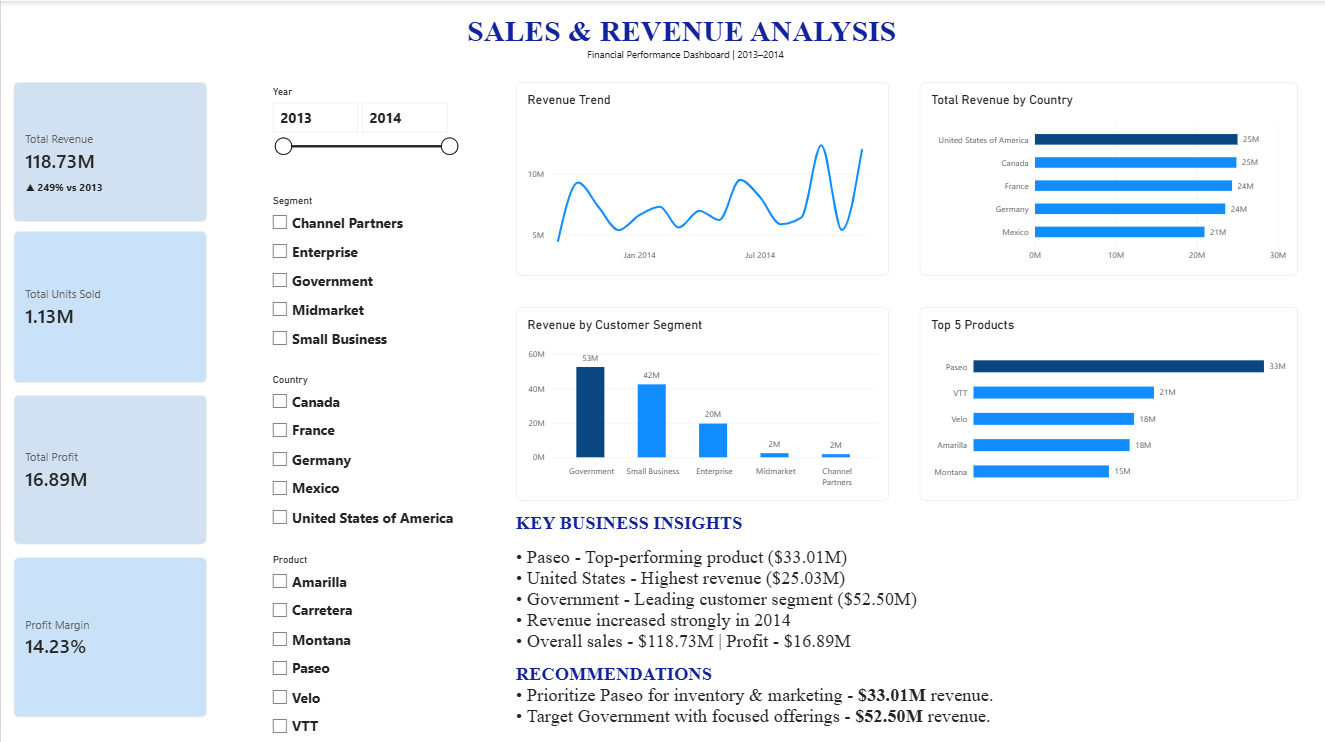

This screenshot's page, from the dashboard's own definition file:
{"tool":"powerbi","page":{"name":"Page 1","canvas":[1920,1080],"ordinal":0},"visuals":[{"type":"cardVisual","fields":{"Data":["Financial_Data.Total Units Sold"]},"box":[17.5,332.5,280,220],"z":0},{"type":"cardVisual","fields":{"Data":["Financial_Data.Total Profit"]},"box":[17.5,570,280,217.5],"z":1000},{"type":"cardVisual","fields":{"Data":["Financial_Data.Profit Margin"]},"box":[17.5,805,280,232.5],"z":2000},{"type":"cardVisual","fields":{"Data":["Financial_Data.Total Revenue"]},"box":[17.5,117.5,280,202.5],"z":3000},{"type":"lineChart","title":"Revenue Trend","fields":{"Category":["Financial_Data.Date.Variation.Date Hierarchy.Year","Financial_Data.Date.Variation.Date Hierarchy.Month"],"Y":["Financial_Data.Total Revenue"]},"box":[745,117.5,540,280],"z":4000},{"type":"clusteredBarChart","title":"Top 5 Products","fields":{"Category":["Financial_Data.Product"],"Y":["Financial_Data.Total Revenue"]},"box":[1330,442.5,547.5,280],"z":5000},{"type":"clusteredBarChart","fields":{"Category":["Financial_Data.Country"],"Y":["Financial_Data.Total Revenue"]},"box":[1330,117.5,547.5,280],"z":6000},{"type":"clusteredColumnChart","title":"Revenue by Customer Segment","fields":{"Category":["Financial_Data.Segment"],"Y":["Financial_Data.Total Revenue"]},"box":[745,442.5,540,280],"z":7000},{"type":"textbox","box":[1750,0,170,280],"z":8000},{"type":"textbox","box":[410,18,1160,76],"z":9000},{"type":"slicer","fields":{"Values":["Financial_Data.Year"]},"box":[385,122.5,280,157.5],"z":10000},{"type":"slicer","fields":{"Values":["Financial_Data.Country"]},"box":[385,540,280,280],"z":11000},{"type":"slicer","fields":{"Values":["Financial_Data.Segment"]},"box":[385,280,280,280],"z":12000},{"type":"slicer","fields":{"Values":["Financial_Data.Product"]},"box":[385,800,280,280],"z":13000},{"type":"textbox","box":[746,740,1132,340],"z":14000},{"type":"textbox","box":[36,258,162,62],"z":15000}]}

Visuals, with their boxes in screenshot pixels (x1, y1, x2, y2), scaled from the page's 1920x1080 canvas onto the 1325x742 screenshot:
cardVisual - Financial_Data.Total Units Sold: 12:228:205:380
cardVisual - Financial_Data.Total Profit: 12:392:205:541
cardVisual - Financial_Data.Profit Margin: 12:553:205:713
cardVisual - Financial_Data.Total Revenue: 12:81:205:220
"Revenue Trend" lineChart: 514:81:887:273
"Top 5 Products" clusteredBarChart: 918:304:1296:496
clusteredBarChart - Financial_Data.Country x Financial_Data.Total Revenue: 918:81:1296:273
"Revenue by Customer Segment" clusteredColumnChart: 514:304:887:496
textbox: 1208:0:1324:192
textbox: 283:12:1083:65
slicer - Financial_Data.Year: 266:84:459:192
slicer - Financial_Data.Country: 266:371:459:563
slicer - Financial_Data.Segment: 266:192:459:385
slicer - Financial_Data.Product: 266:550:459:741
textbox: 515:508:1296:741
textbox: 25:177:137:220
